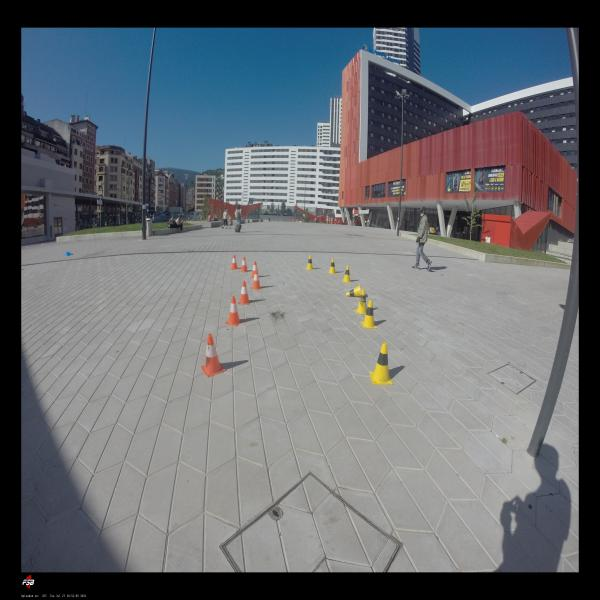blue_cone: (64, 250, 73, 257)
orange_cone: (200, 334, 226, 377), (224, 296, 242, 326), (238, 280, 251, 304), (250, 270, 262, 290), (250, 261, 260, 277), (239, 256, 249, 272), (230, 254, 239, 270)
yellow_cone: (370, 342, 394, 385), (361, 300, 377, 328), (354, 290, 368, 314), (345, 283, 363, 298), (342, 265, 352, 283), (327, 258, 337, 274), (305, 255, 314, 270)
